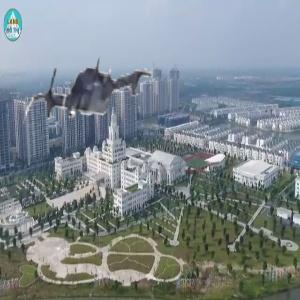drone: (21, 30, 159, 168)
